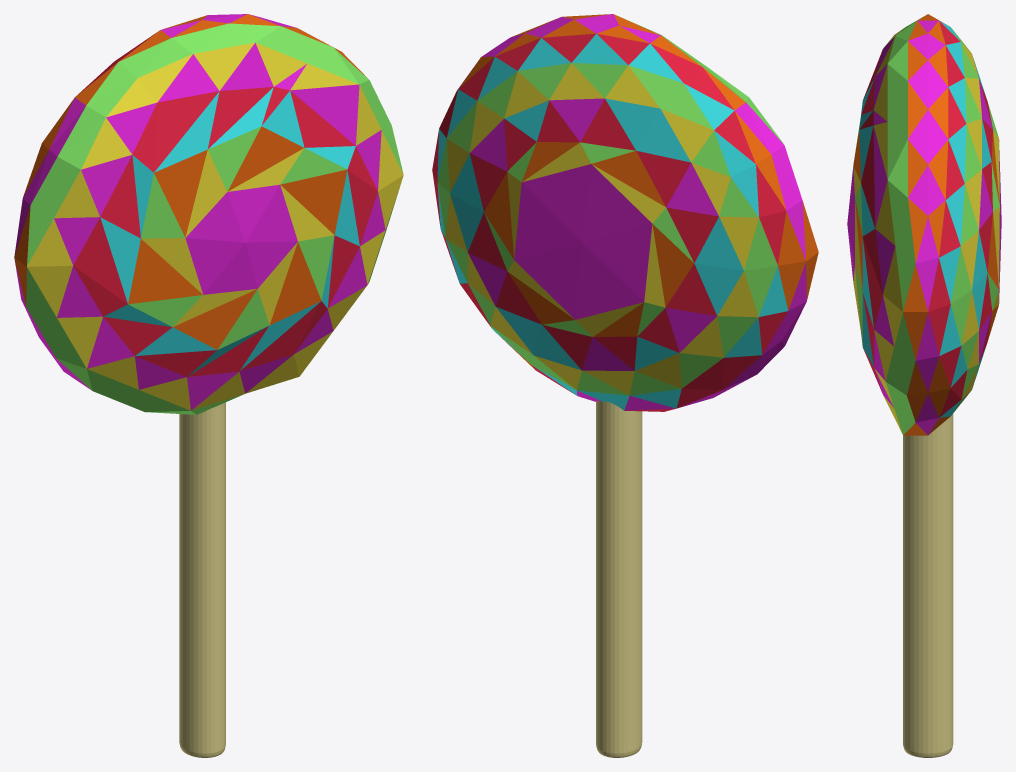
The model's file is lolipop.glb.
3 views of the same model, side by side, from view 1: azimuth 30°, elevation 25°; view 2: azimuth 150°, elevation 25°; view 3: azimuth 270°, elevation 25° (orthographic).
Parts seen in each view (by area): view 1: Icosphere, Cylinder; view 2: Icosphere, Cylinder; view 3: Icosphere, Cylinder.
Boxes of the visible parts, x1,y1,x2,y2 form: Icosphere: (14, 14, 403, 414); Cylinder: (179, 402, 225, 757); Icosphere: (432, 14, 818, 411); Cylinder: (596, 401, 642, 757); Icosphere: (847, 14, 1001, 435); Cylinder: (903, 414, 953, 757).
Bounding box in the file's own units: 0.2856 × 0.5276 × 0.1031.
